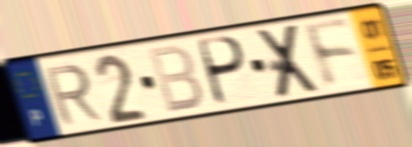2: (93, 50, 151, 127)
B: (145, 42, 206, 116)
F: (300, 17, 361, 93)
P: (197, 34, 249, 109)
R: (41, 61, 105, 128)
X: (254, 21, 323, 102)
